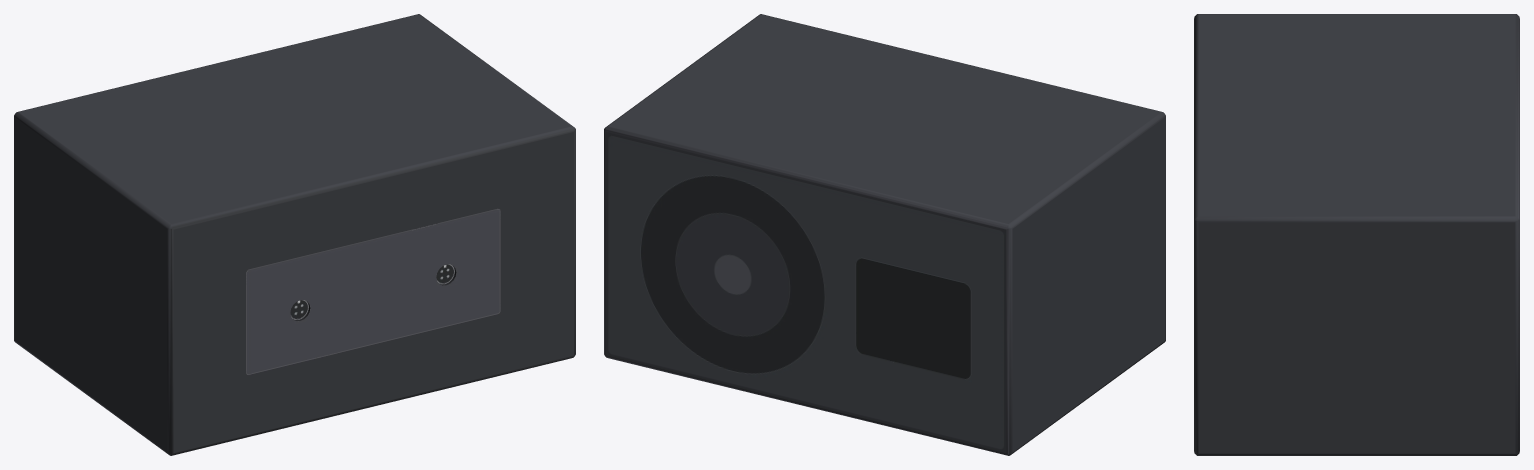
File: nexo-geo-m10.glb
The picture shows the model from 3 angles, left to right: view 1: azimuth 30°, elevation 25°; view 2: azimuth 150°, elevation 25°; view 3: azimuth 270°, elevation 25°; orthographic projection. The views are drawn at different scales.
Visible parts, largest first — view 1: nexo-geo-m10-body; view 2: nexo-geo-m10-body; view 3: nexo-geo-m10-body.
Part boxes in pixels (x1,y1,x2,y2): nexo-geo-m10-body: [14, 14, 575, 455]; nexo-geo-m10-body: [604, 14, 1165, 455]; nexo-geo-m10-body: [1194, 14, 1519, 455].
Bounding box in the file's own units: 0.531 × 0.288 × 0.355.
Materials: 1 (1 with a texture image).
